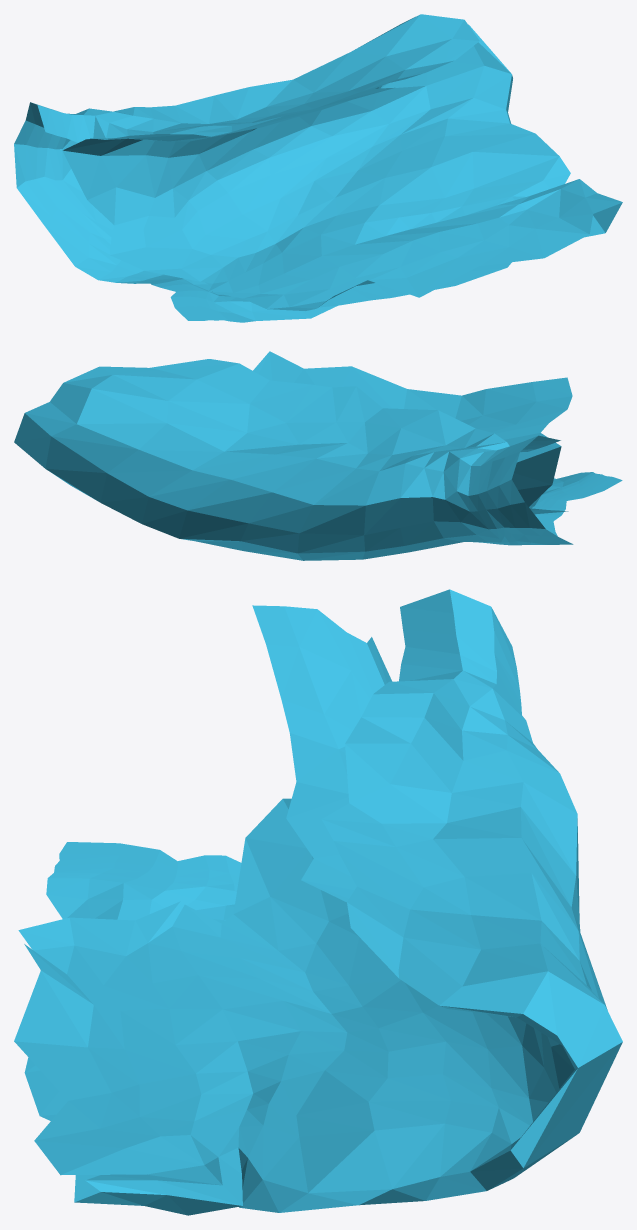
The picture shows the model from 3 angles, top to bottom: view 1: azimuth 30°, elevation 25°; view 2: azimuth 150°, elevation 25°; view 3: azimuth 270°, elevation 25°; orthographic projection. The views are drawn at different scales.
Visible parts, largest first — view 1: 1071; view 2: 1071; view 3: 1071.
Part boxes in pixels (left/top/right/bottom): 1071: left=14, top=14, right=622, bottom=322; 1071: left=14, top=351, right=622, bottom=560; 1071: left=14, top=589, right=622, bottom=1215.
Size of the model in its own units: 1.38 by 0.4631 by 0.8724.
